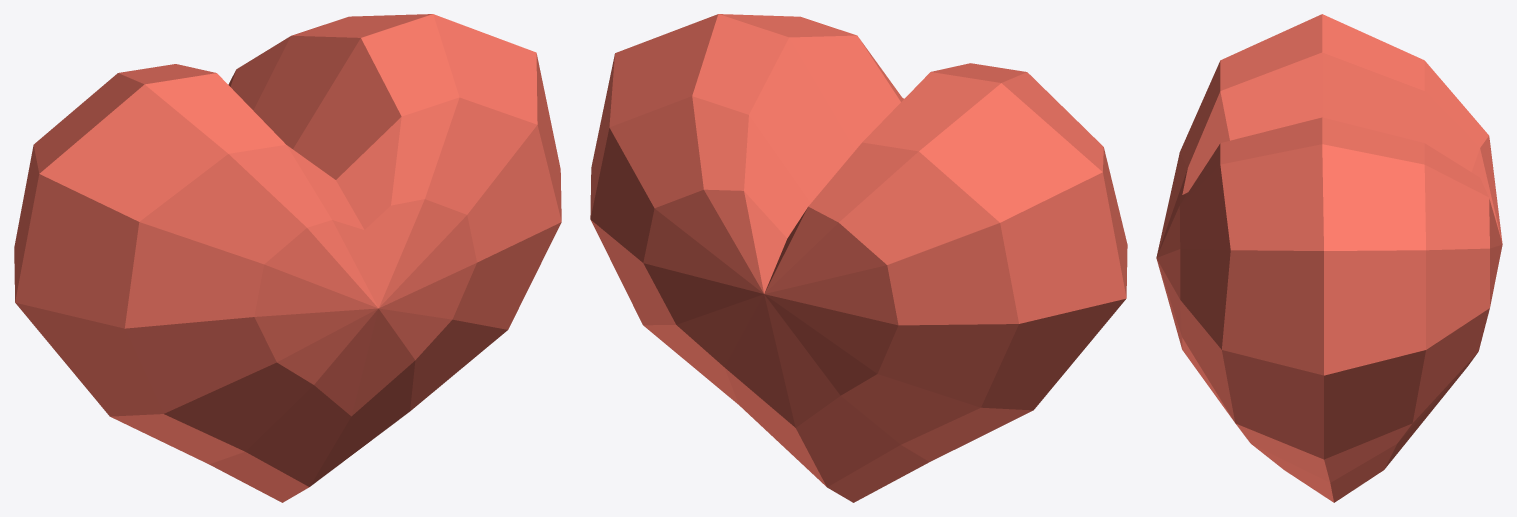
The model's file is heart_crystal.glb.
3 renders of one model, left to right at view 1: azimuth 30°, elevation 25°; view 2: azimuth 150°, elevation 25°; view 3: azimuth 270°, elevation 25°, orthographic. The views are drawn at different scales.
Visible parts, largest first — view 1: heart; view 2: heart; view 3: heart.
Part boxes in pixels (box(x1,y1,x2,y2)): heart: box(14, 14, 561, 502); heart: box(590, 14, 1127, 502); heart: box(1156, 14, 1502, 502).
Bounding box in the file's own units: 0.7047 × 0.5659 × 0.4189.
